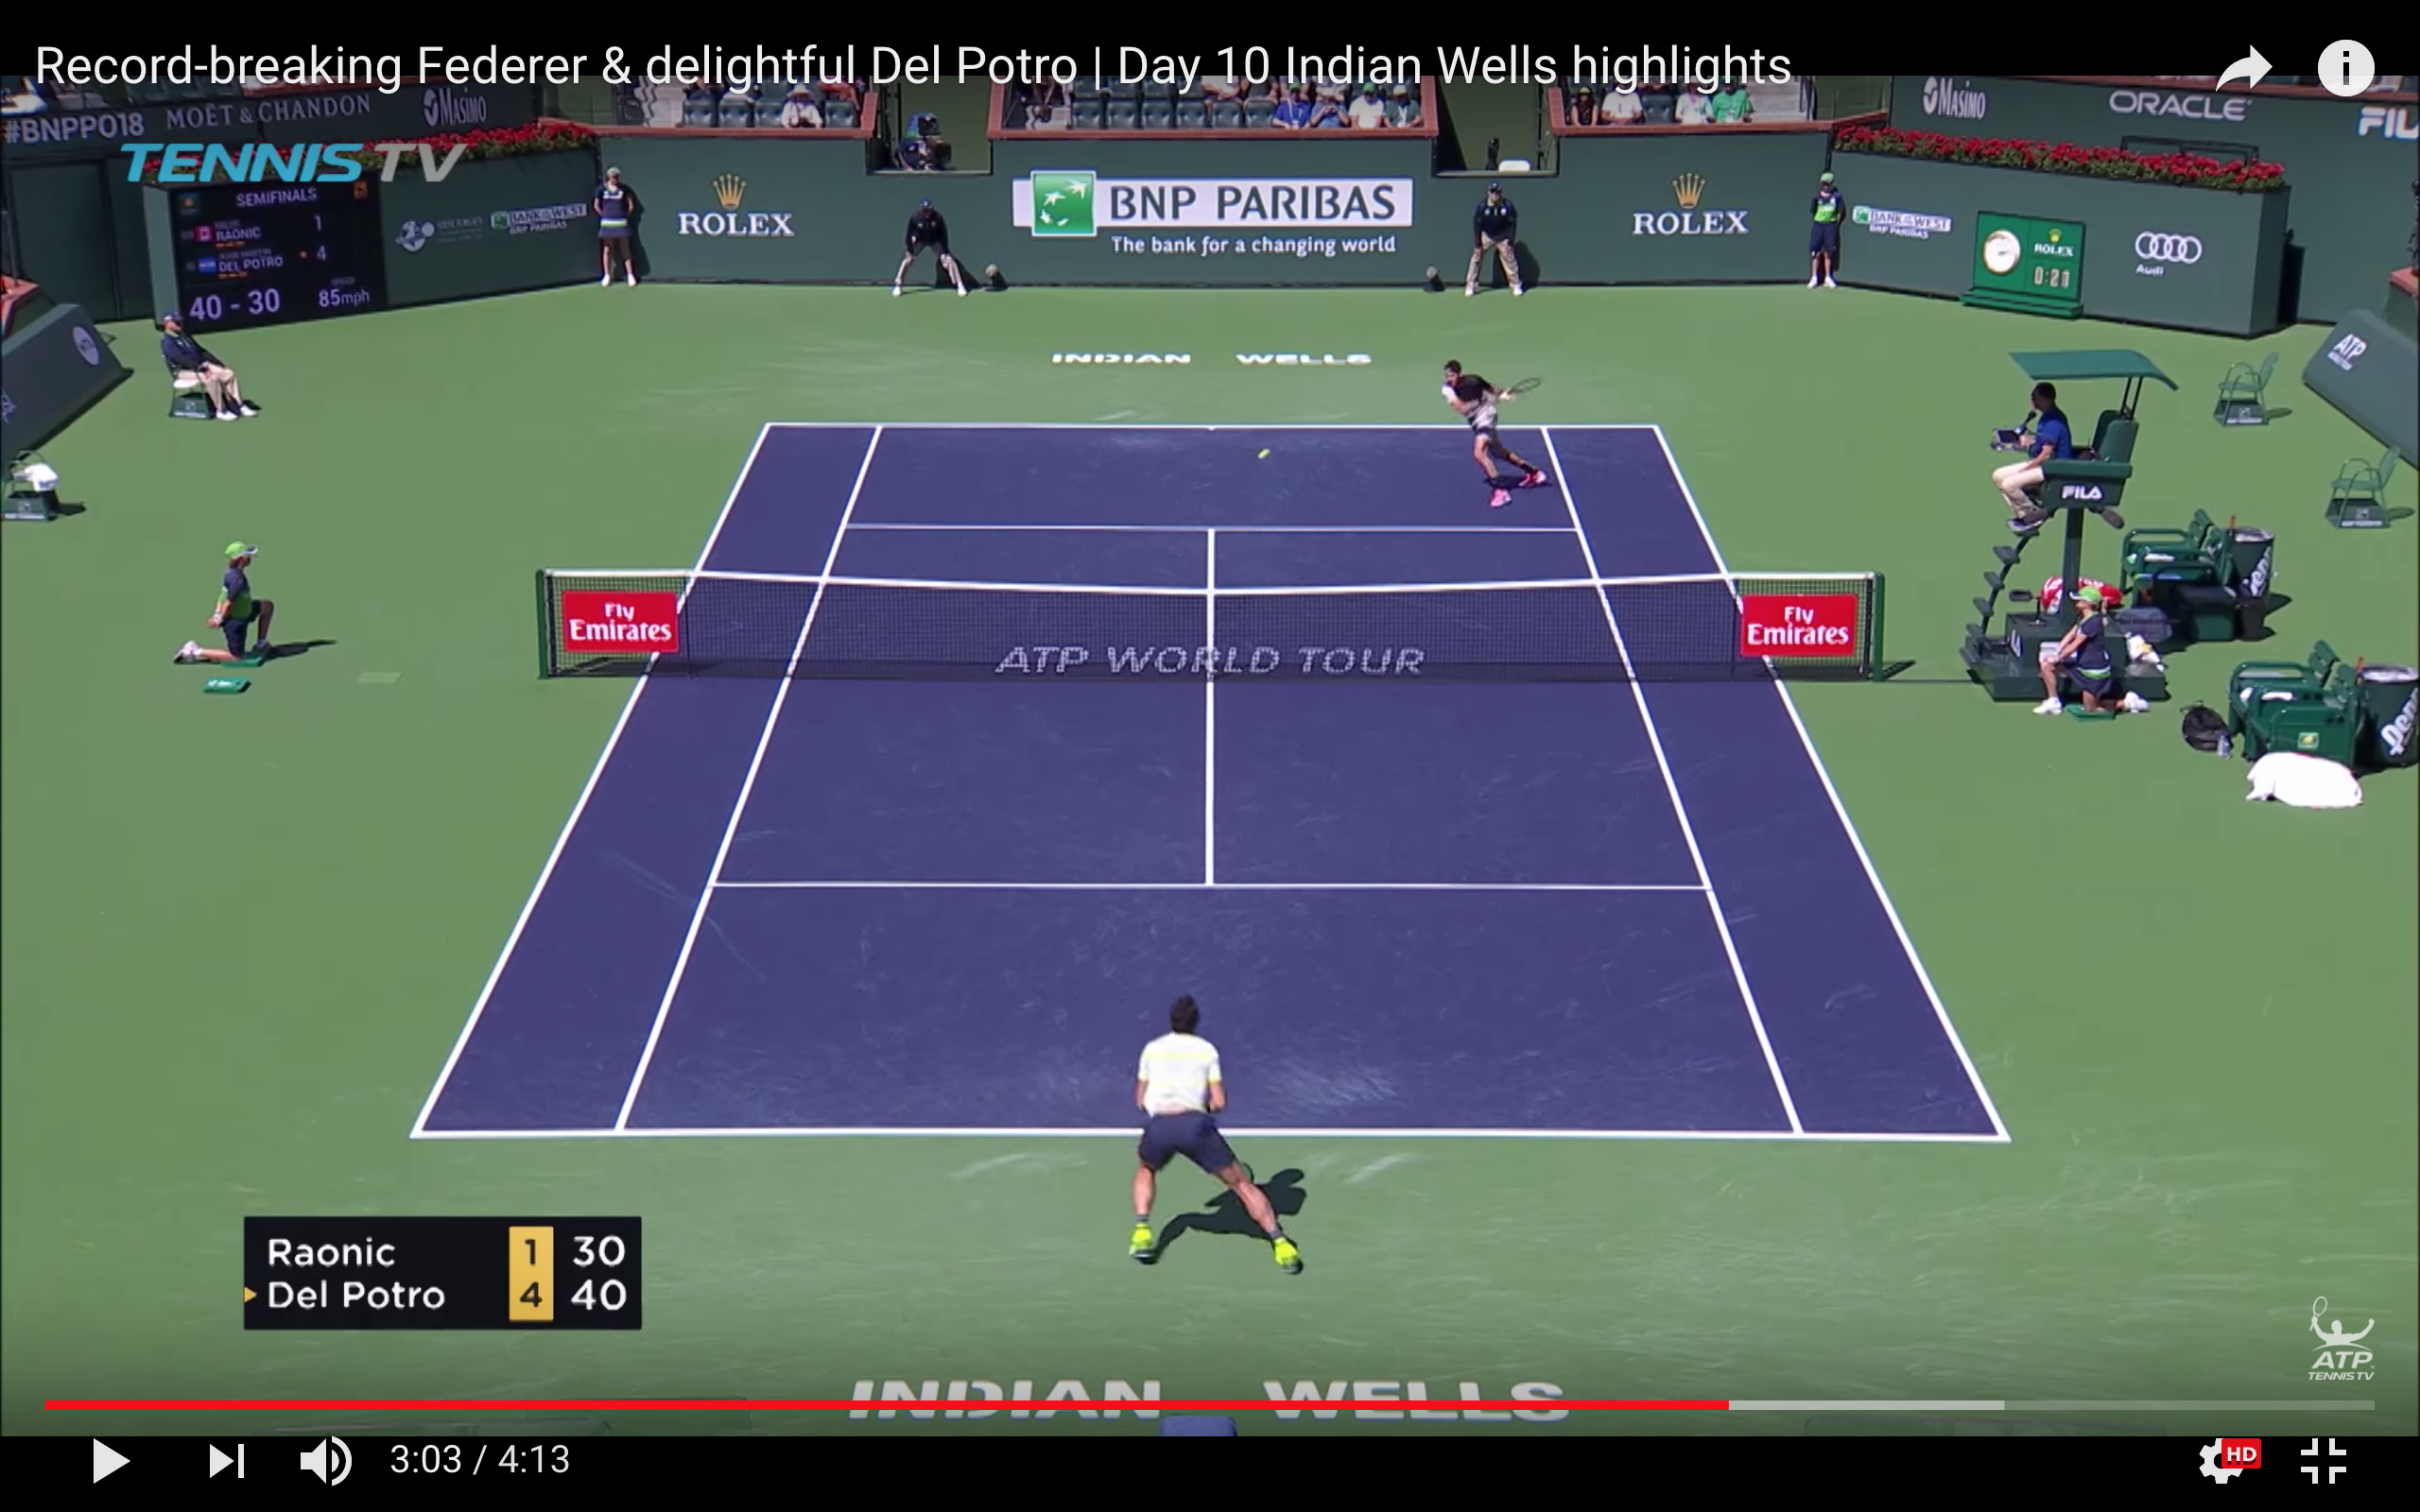tennis ball: (1255, 443, 1280, 469)
tennis player: (1101, 991, 1314, 1283), (1426, 356, 1563, 518)
